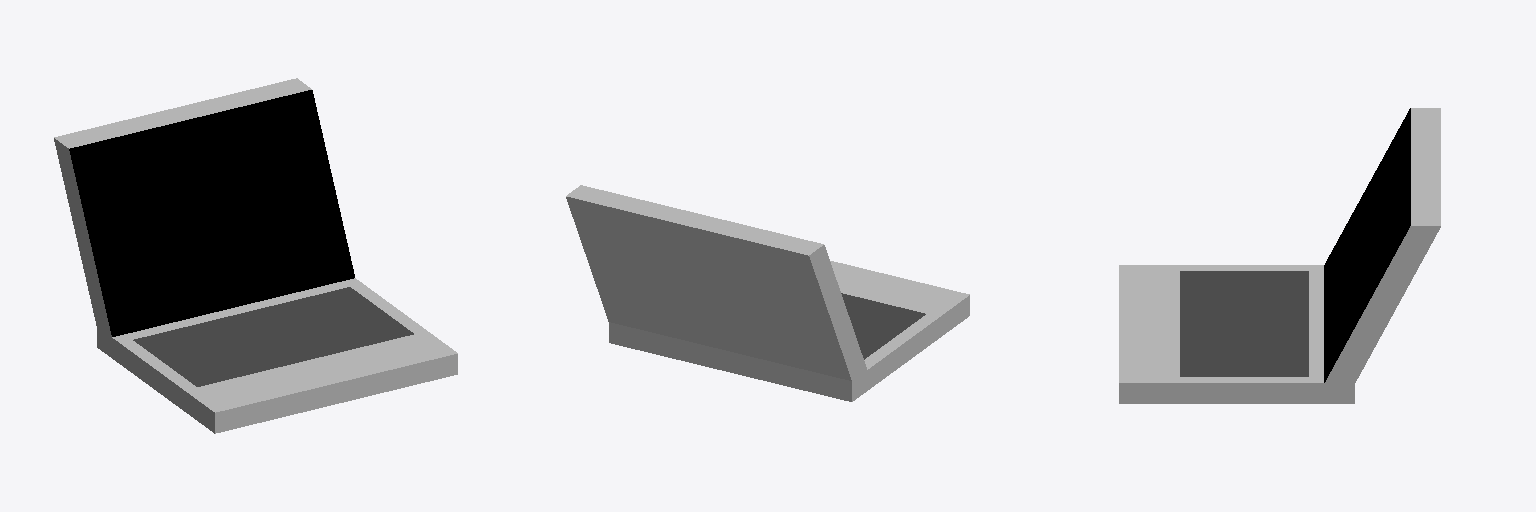
The model's file is laptop2.obj.
3 renders of one model, left to right at view 1: azimuth 30°, elevation 25°; view 2: azimuth 150°, elevation 25°; view 3: azimuth 270°, elevation 25°, orthographic.
Visible parts, largest first — view 1: Laptop2_Cube.008; view 2: Laptop2_Cube.008; view 3: Laptop2_Cube.008.
Boxes of the visible parts, <box> form: Laptop2_Cube.008: <box>54,78,457,433</box>; Laptop2_Cube.008: <box>566,185,969,401</box>; Laptop2_Cube.008: <box>1119,108,1440,403</box>.
Size of the model in its own units: 4.42 by 3.09 by 5.08.